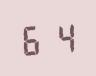four: (48, 20, 76, 53)
six: (19, 22, 47, 56)
